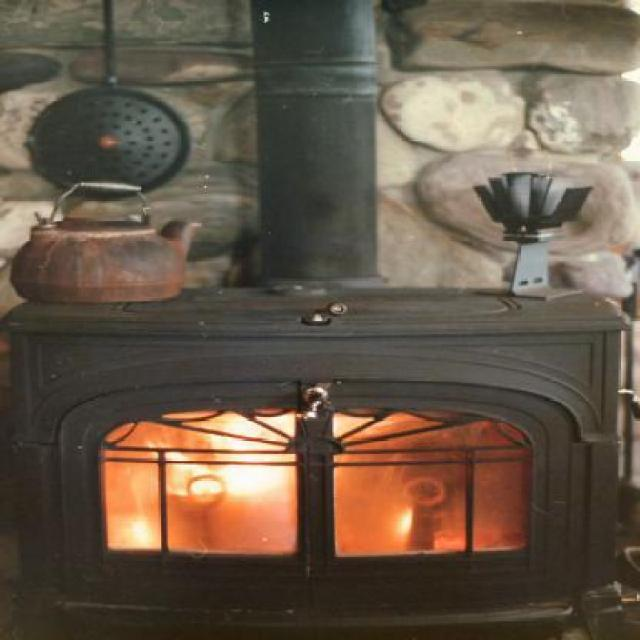Fire: (112, 408, 486, 554)
